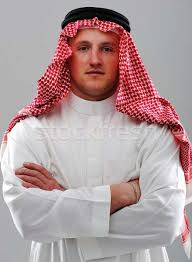middle_eastern_male: (68, 18, 133, 96)
